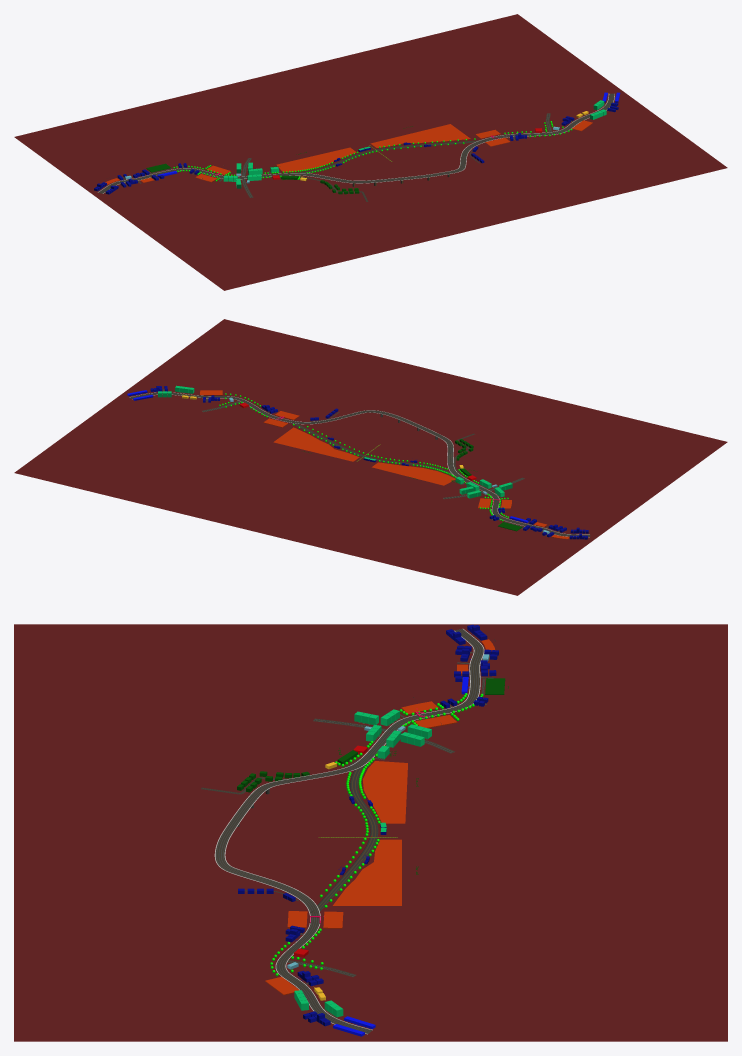
The model's file is Blockout.fbx.
The picture shows the model from 3 angles, top to bottom: view 1: azimuth 30°, elevation 25°; view 2: azimuth 150°, elevation 25°; view 3: azimuth 270°, elevation 25°; orthographic projection. The views are drawn at different scales.
Parts seen in each view (by area): view 1: Object001, Plane001; view 2: Object001, Plane001; view 3: Object001, Plane001.
Boxes of the visible parts, left/top/right/bottom form: Object001: left=14, top=14, right=727, bottom=290; Plane001: left=94, top=92, right=620, bottom=201; Object001: left=14, top=319, right=727, bottom=595; Plane001: left=127, top=385, right=590, bottom=539; Object001: left=14, top=624, right=727, bottom=1041; Plane001: left=201, top=624, right=508, bottom=1036.
Bounding box in the file's own units: 2596 × 22.18 × 1876.
